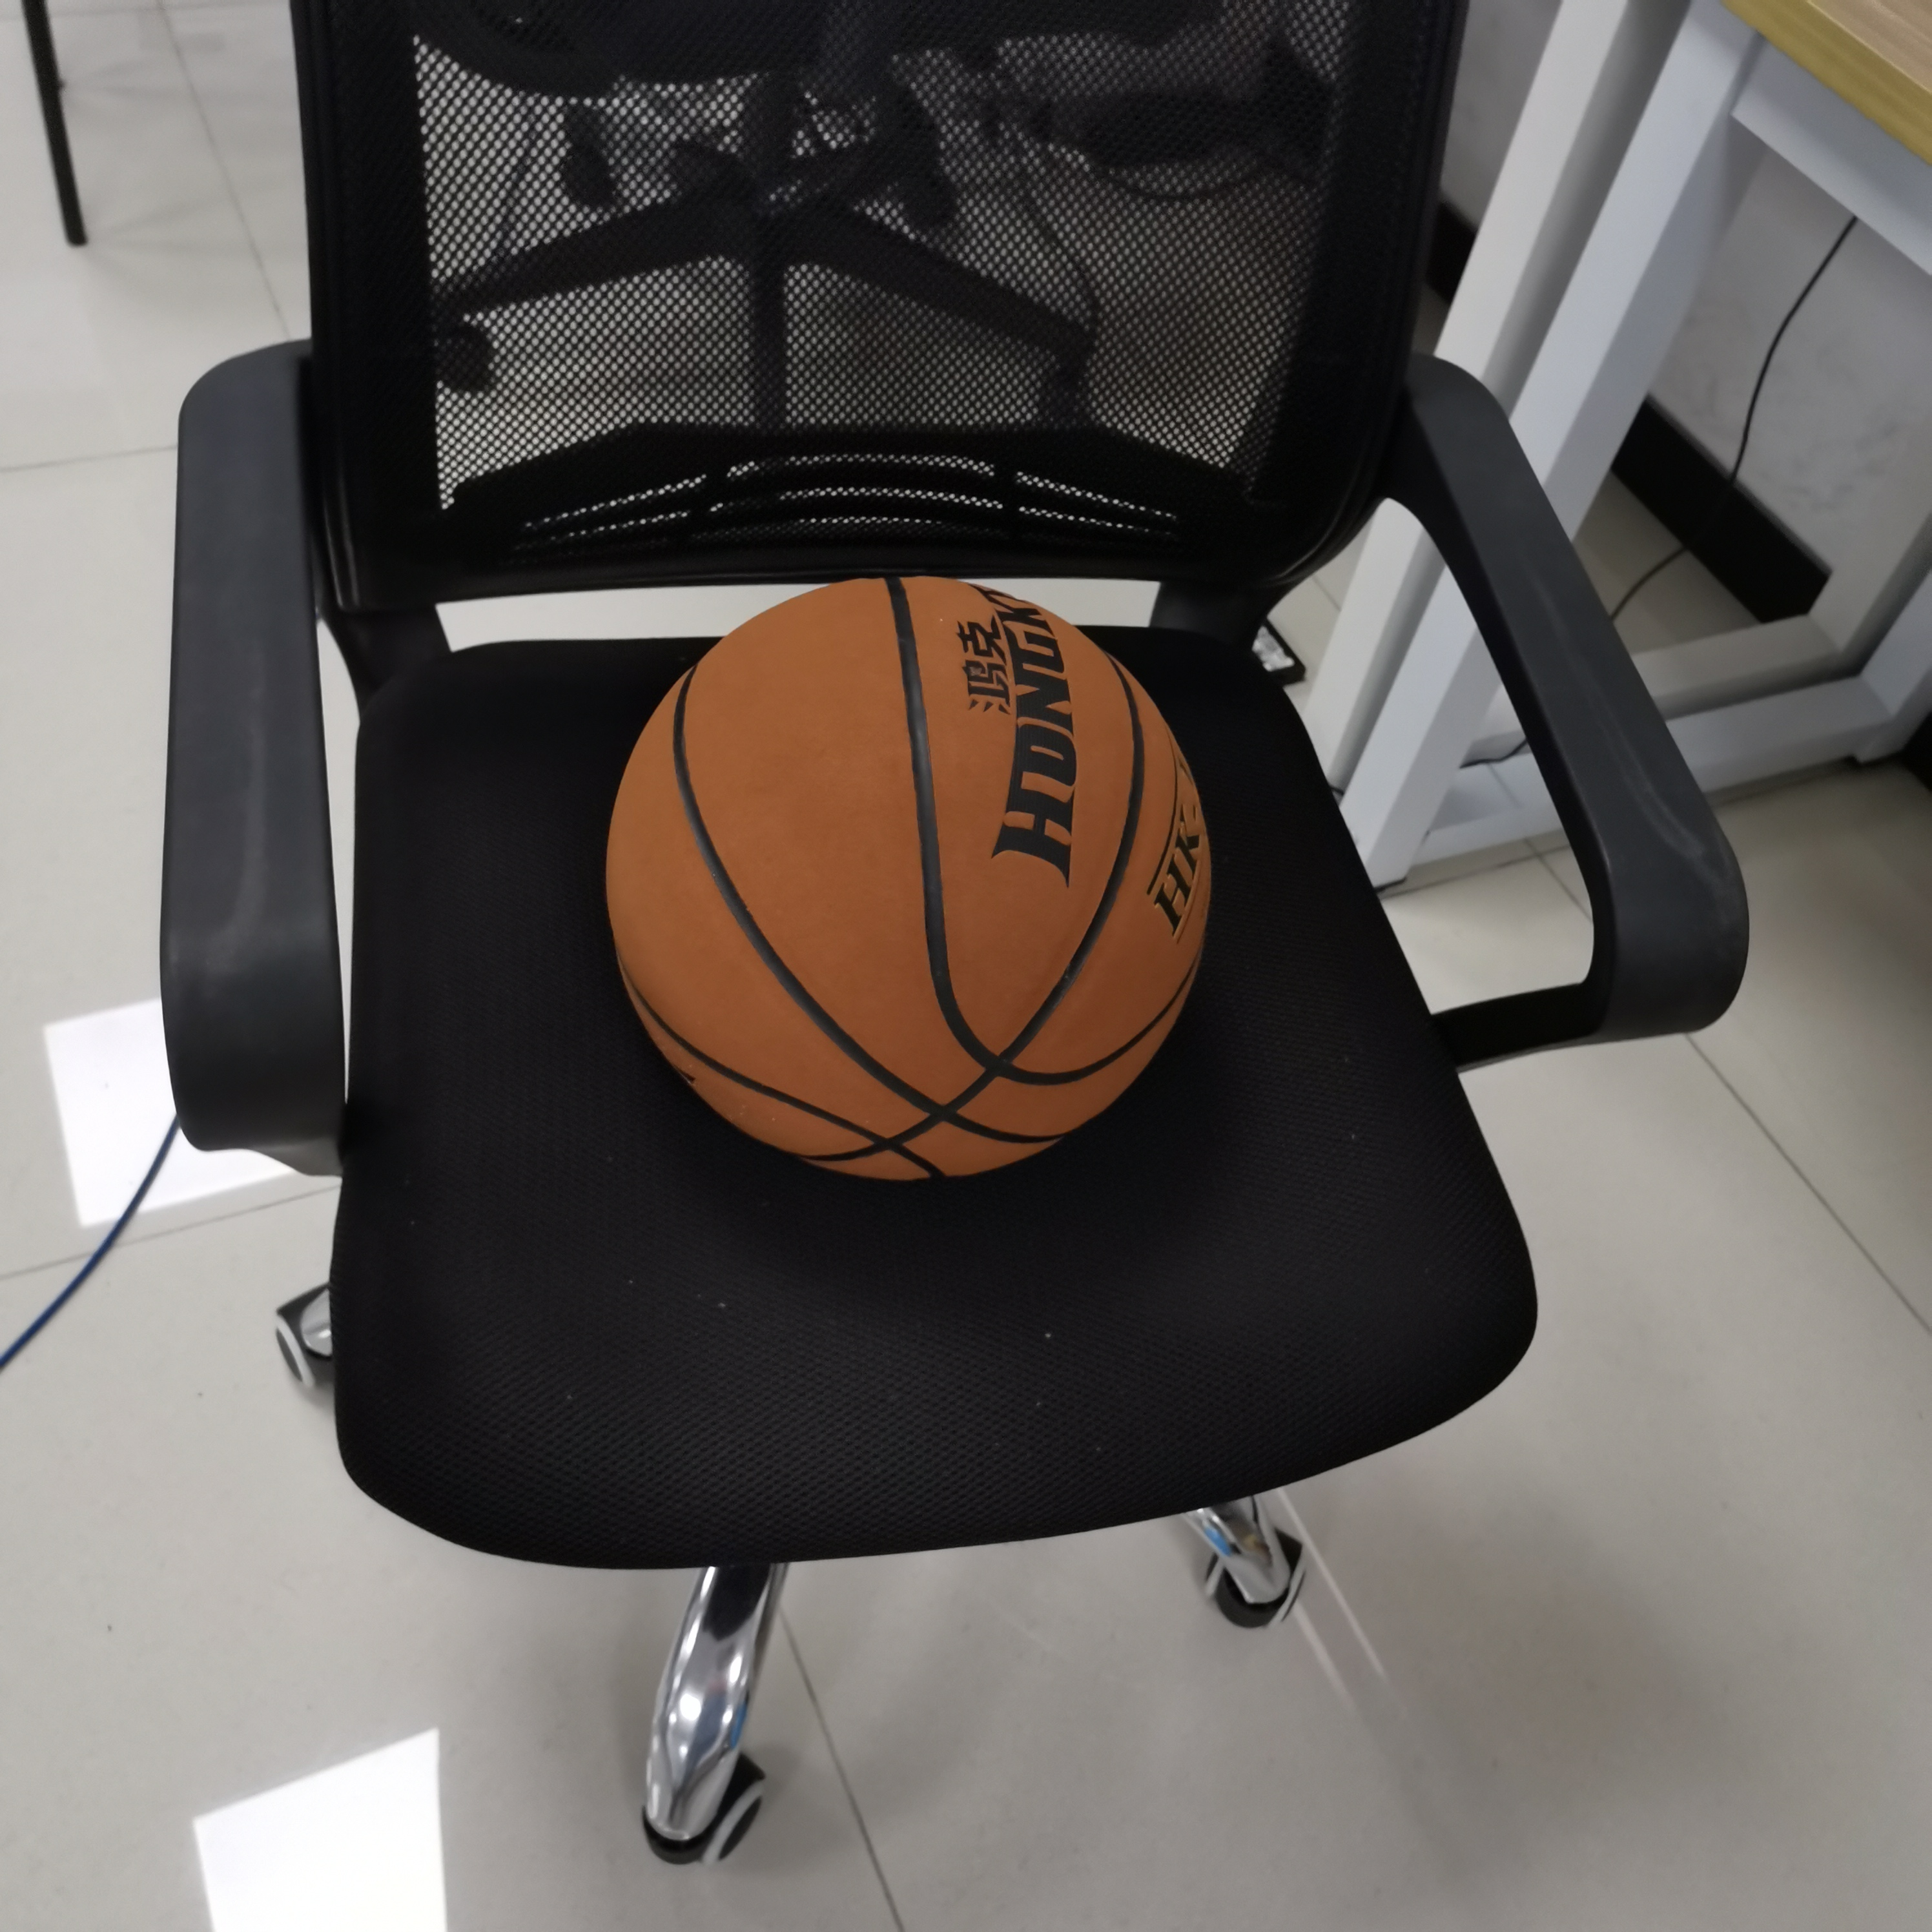basketball: (605, 577, 1215, 1189)
